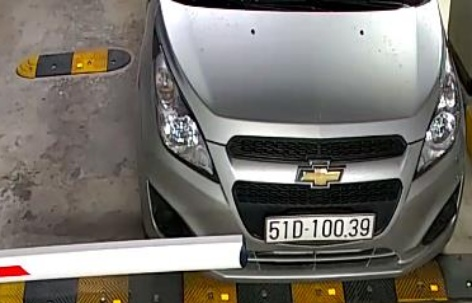plate: (257, 205, 375, 243)
